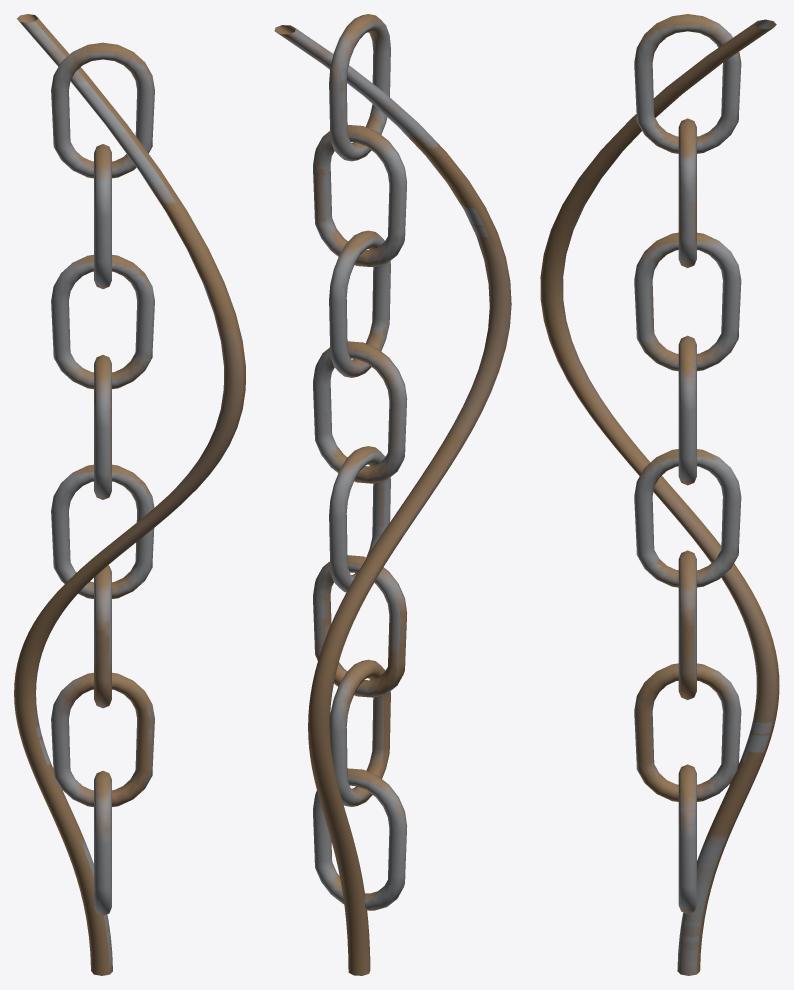
The model's file is GoldChandelier-chain.glb.
The picture shows the model from 3 angles, left to right: view 1: azimuth 90°, elevation 25°; view 2: azimuth 150°, elevation 25°; view 3: azimuth 270°, elevation 25°; orthographic projection. The views are drawn at different scales.
Visible parts, largest first — view 1: Chain; view 2: Chain; view 3: Chain.
Boxes of the visible parts, x1,y1,x2,y2 form: Chain: (14,14,245,975); Chain: (274,14,511,975); Chain: (540,14,779,975).
Size of the model in its own units: 0.0792 by 0.5633 by 0.1265.
2 materials, 2 textured.
